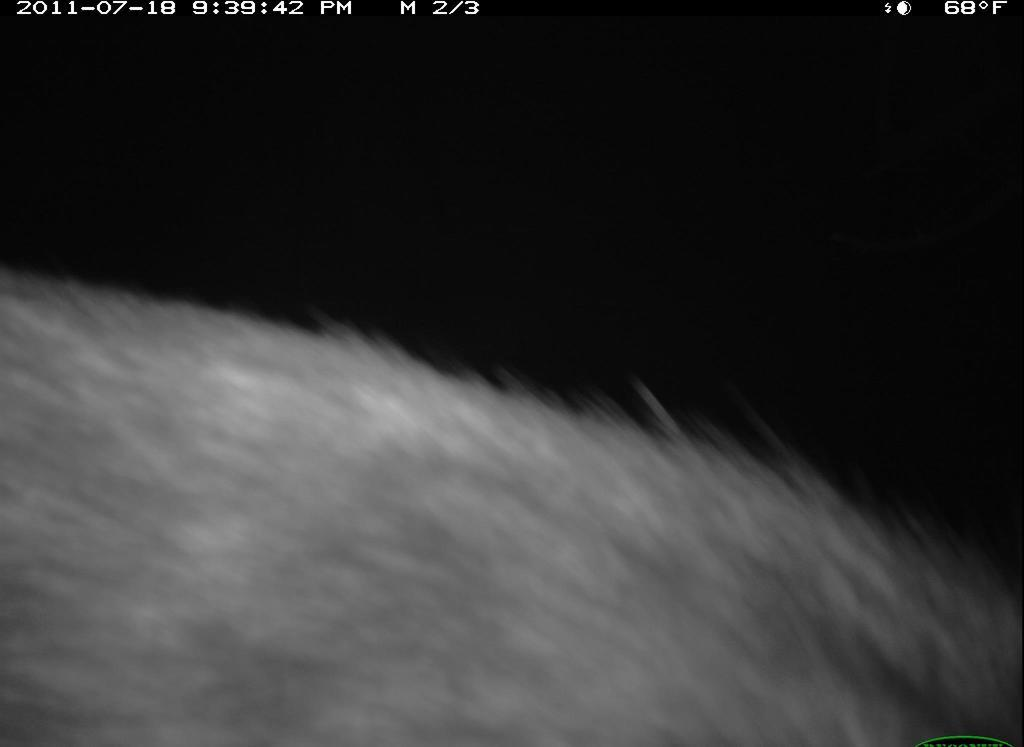raccoon: (2, 263, 1023, 747)
